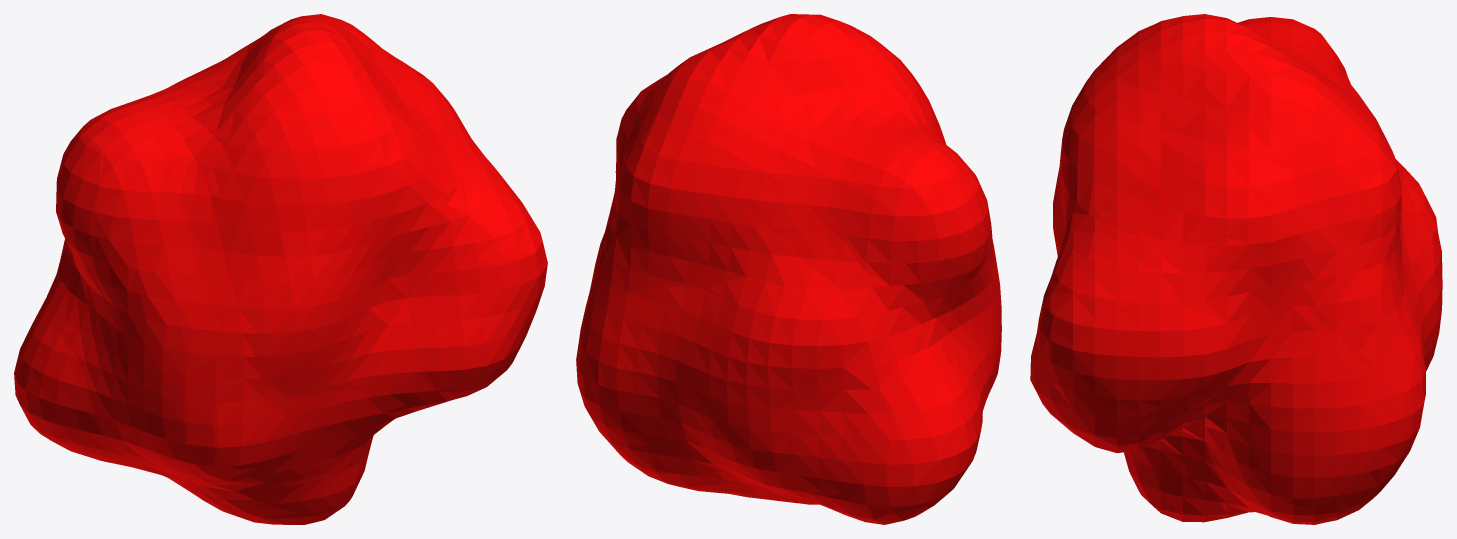
File: acpP_coarse.dae
3 renders of one model, left to right at view 1: azimuth 30°, elevation 25°; view 2: azimuth 150°, elevation 25°; view 3: azimuth 270°, elevation 25°, orthographic. The views are drawn at different scales.
Visible parts, largest first — view 1: acpP; view 2: acpP; view 3: acpP.
Part boxes in pixels (box(x1,y1,x2,y2)): acpP: box(14, 14, 547, 524); acpP: box(576, 14, 1001, 524); acpP: box(1030, 14, 1442, 524).
Size of the model in its own units: 33.11 by 36.13 by 26.96.
